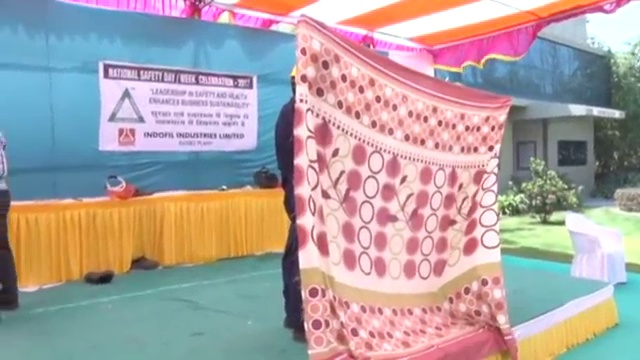person: (270, 66, 308, 344)
